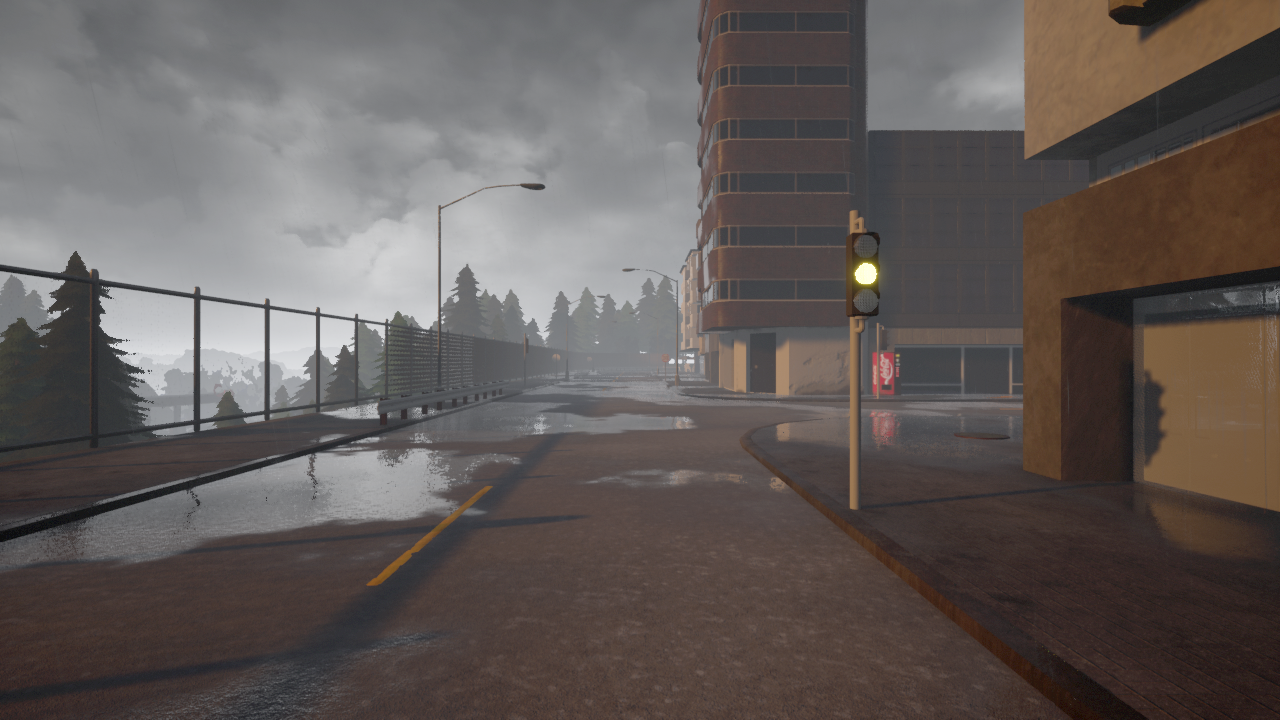yellow: (847, 228, 881, 316)
